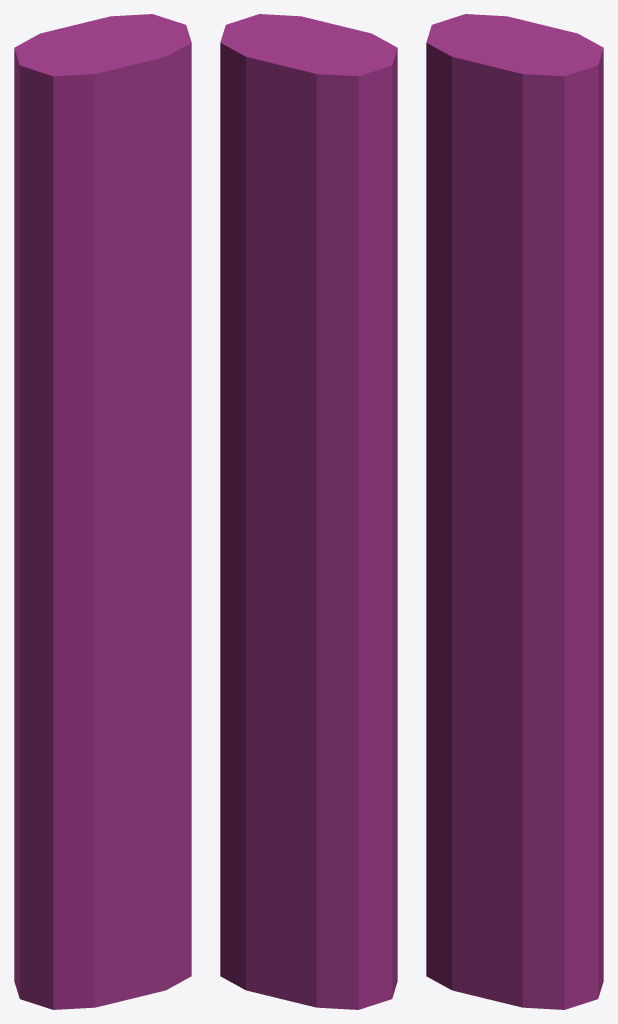
File: lighter.fbx
3 views of the same model, side by side, from view 1: azimuth 30°, elevation 25°; view 2: azimuth 150°, elevation 25°; view 3: azimuth 330°, elevation 25° (orthographic).
Parts seen in each view (by area): view 1: lighter; view 2: lighter; view 3: lighter.
Boxes of the visible parts, x1,y1,x2,y2 form: lighter: (14,14,191,1009); lighter: (220,14,397,1009); lighter: (426,14,603,1009).
Bounding box in the file's own units: 0.0136 × 0.0729 × 0.00782.
